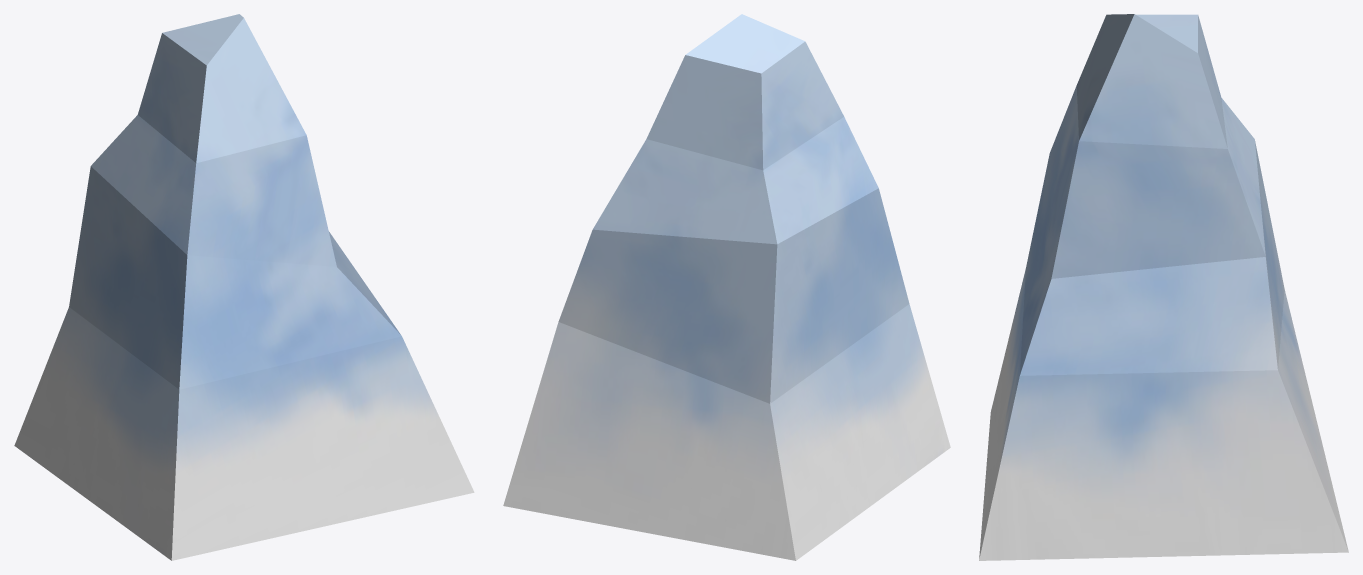
File: mountain.dae
3 views of the same model, side by side, from view 1: azimuth 30°, elevation 25°; view 2: azimuth 150°, elevation 25°; view 3: azimuth 270°, elevation 25° (orthographic). The views are drawn at different scales.
Parts seen in each view (by area): view 1: mountain; view 2: mountain; view 3: mountain.
Boxes of the visible parts, <box> form: mountain: <box>14,14,474,560</box>; mountain: <box>503,14,950,560</box>; mountain: <box>979,14,1348,560</box>.
Size of the model in its own units: 7.68 by 8.06 by 11.29.
